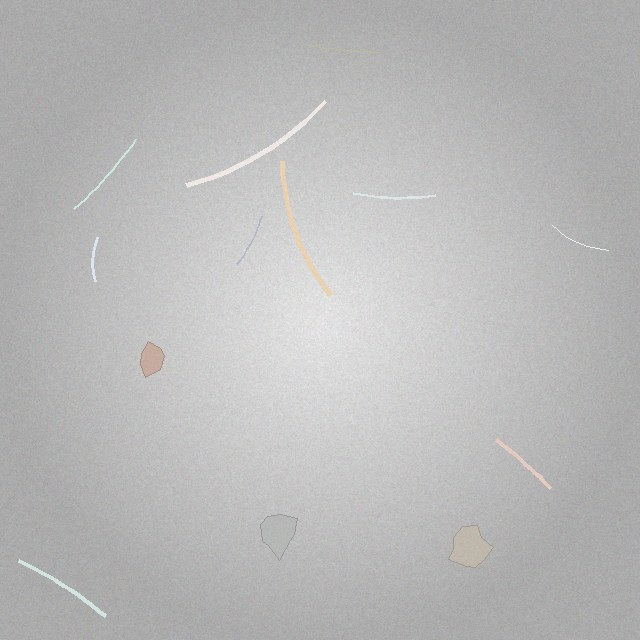fiber: (181, 96, 331, 191), (276, 155, 337, 302), (14, 556, 110, 621), (71, 137, 138, 213), (492, 435, 555, 493), (550, 223, 610, 252), (234, 214, 264, 267), (350, 190, 439, 202), (308, 44, 381, 54), (90, 235, 101, 284)
fragment: (449, 526, 494, 568), (260, 515, 298, 560), (140, 341, 165, 378)
